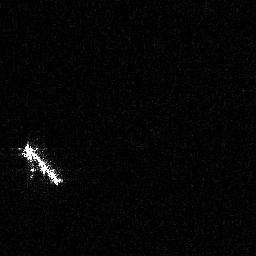ship: (12, 137, 64, 187)
